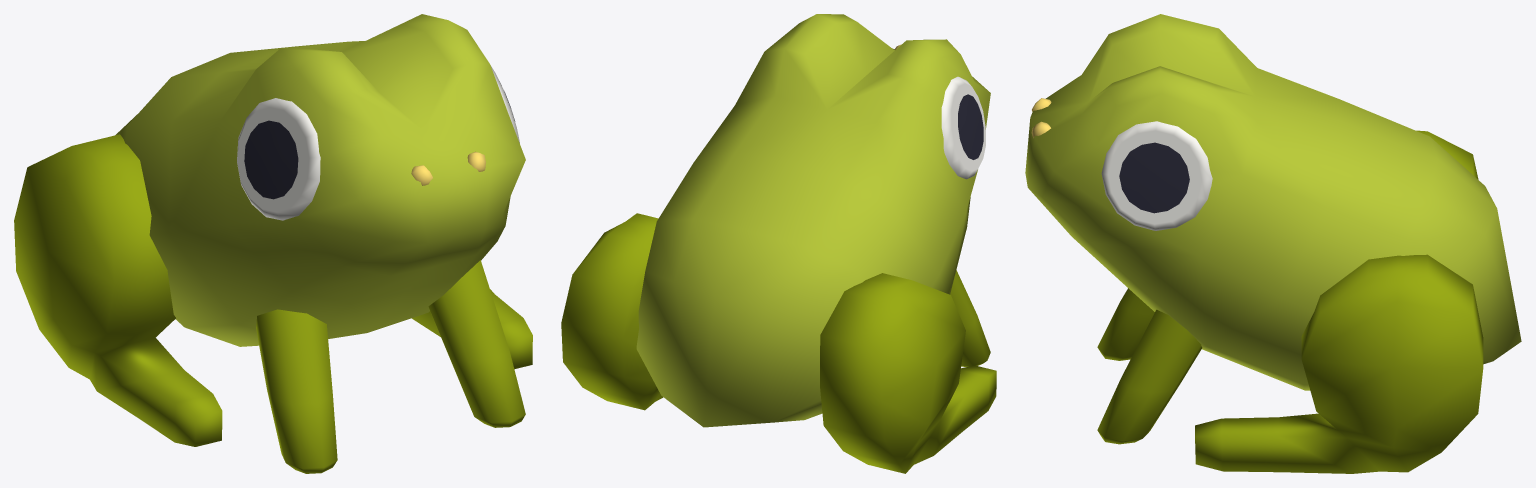
File: Frog_LOD1.obj
3 renders of one model, left to right at view 1: azimuth 30°, elevation 25°; view 2: azimuth 150°, elevation 25°; view 3: azimuth 270°, elevation 25°, orthographic. The views are drawn at different scales.
Parts seen in each view (by area): view 1: Mesh_Frog_LOD1; view 2: Mesh_Frog_LOD1; view 3: Mesh_Frog_LOD1.
Part boxes in pixels (bbox=[...]): Mesh_Frog_LOD1: bbox=[14, 14, 532, 473]; Mesh_Frog_LOD1: bbox=[561, 14, 996, 473]; Mesh_Frog_LOD1: bbox=[1025, 14, 1521, 473].
Size of the model in its own units: 0.5004 by 0.453 by 0.5744.
